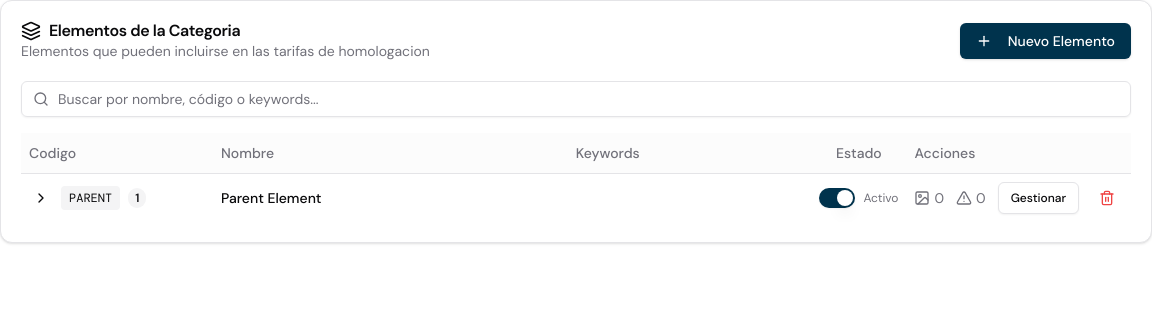
Test case: ElementsTreeSection › expands/collapses parent elements
This screenshot has width=1152, height=310.
Expected: the text "Child Element" is not shown
// Click expand button
Click the button named "Expandir elemento".
click(41, 198)  # box [29,186,53,210]
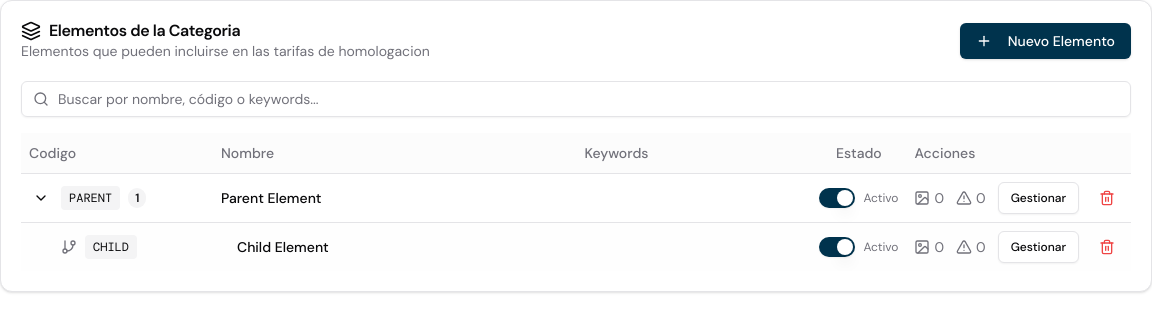
Now the text "Child Element" is shown, box [237,238,329,256]
// Click collapse button
Click the button named "Contraer elemento".
click(41, 198)  # box [29,186,53,210]
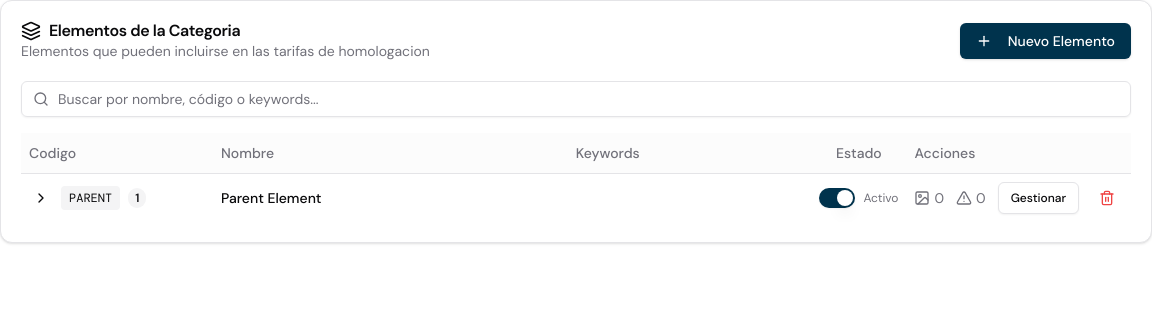
Now the text "Child Element" is gone
